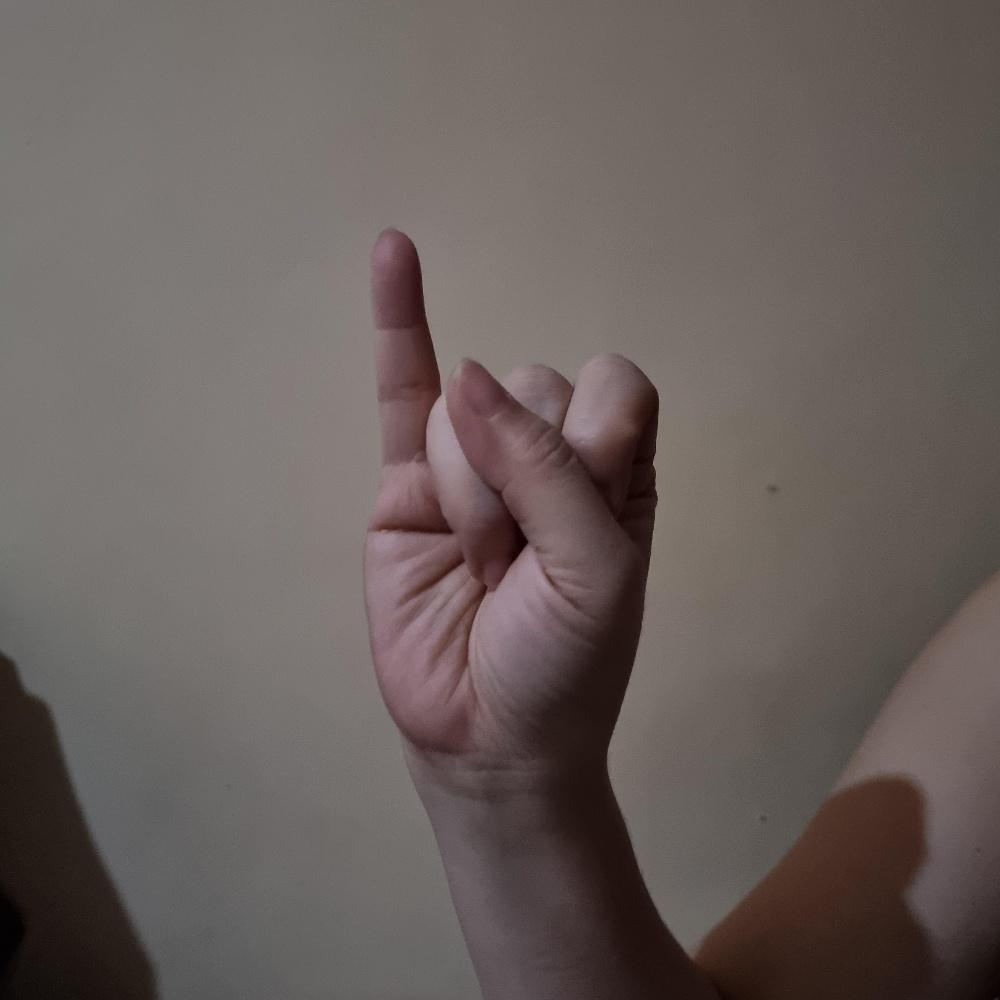i: (361, 221, 664, 768)
